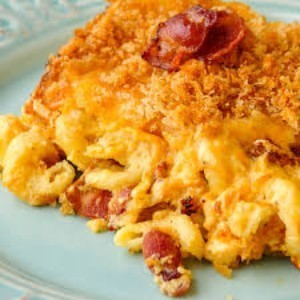cheese_brain food: (98, 121, 257, 215)
